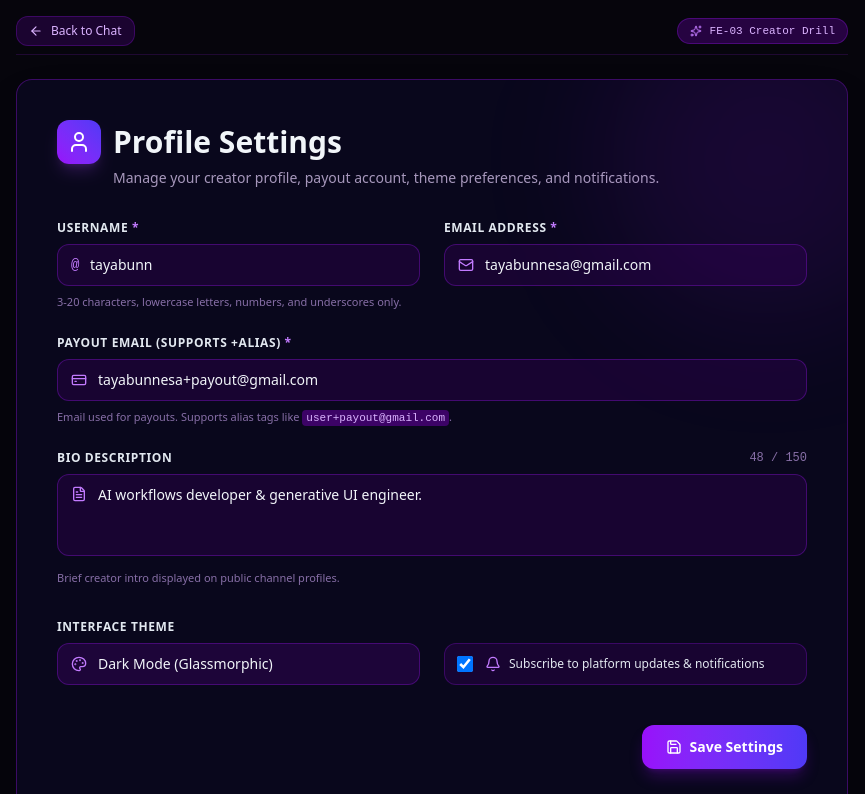
UserProfileSettings Component › validates invalid username and displays accessible error
This screenshot has width=865, height=794.
Type "ab" into the field labelled "Username *".
click(238, 265); type("ab")  # box [57,244,420,286]
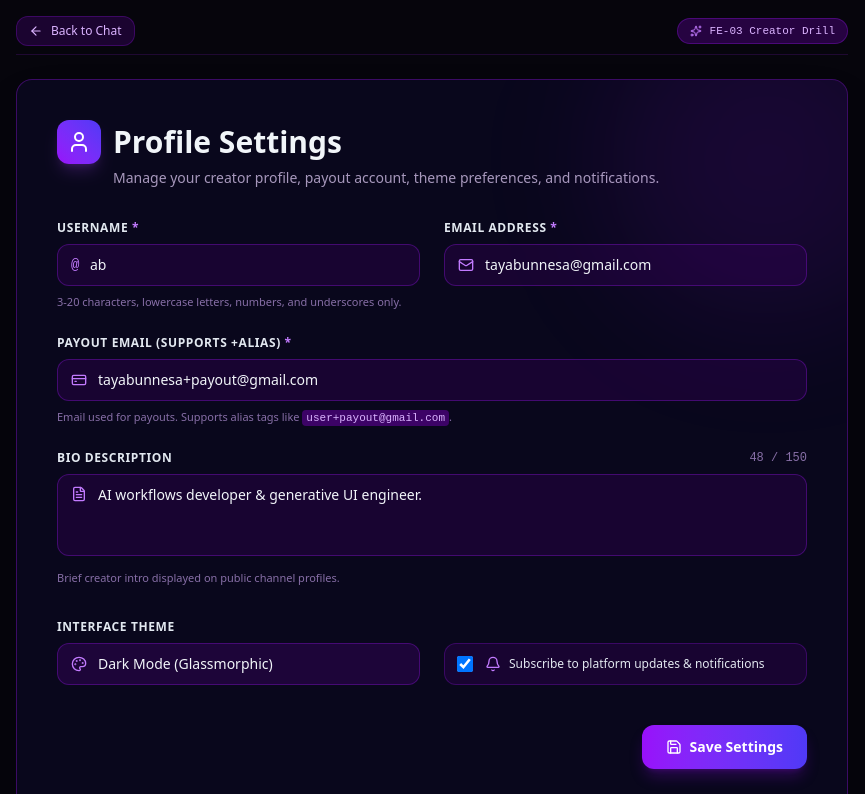
Leave the field labelled "Username *", box [57,244,420,286]
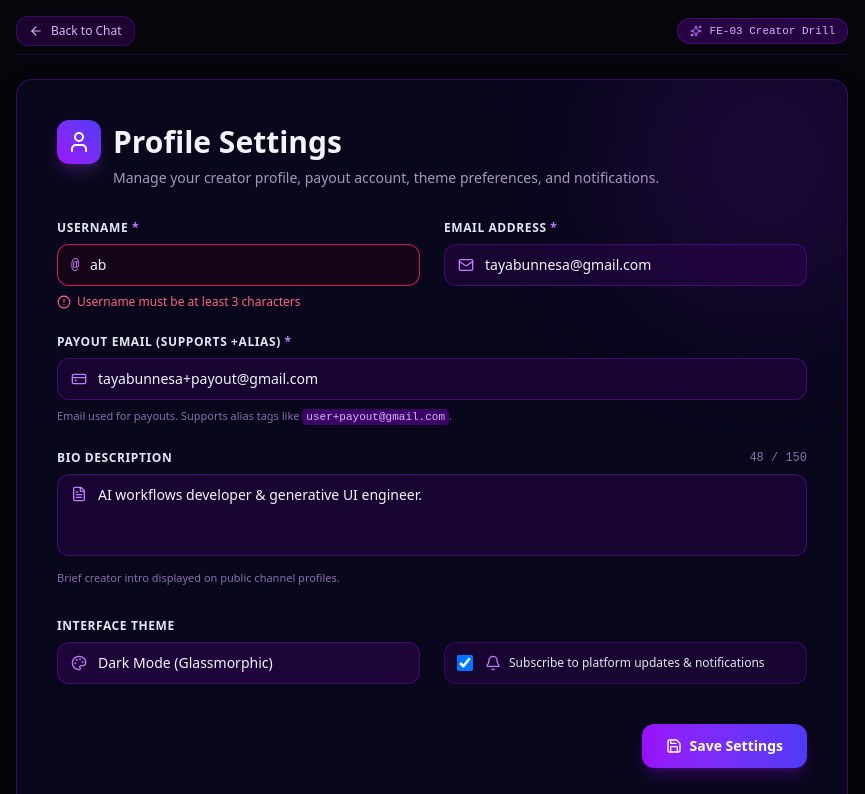
Result: the text "Username must be at least 3 characters" is shown at [77,294,300,310]
